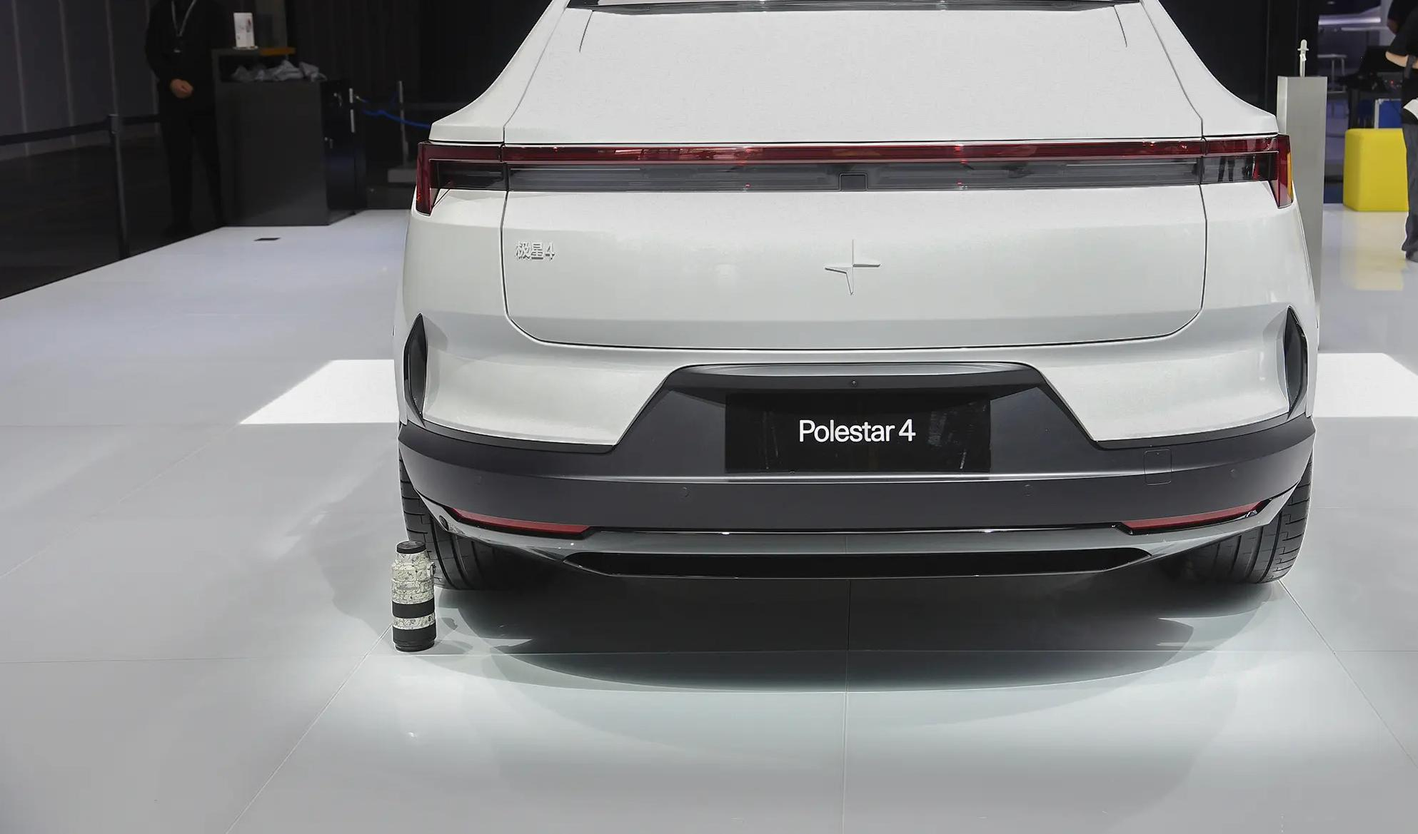Polestar: (825, 240, 880, 294)
